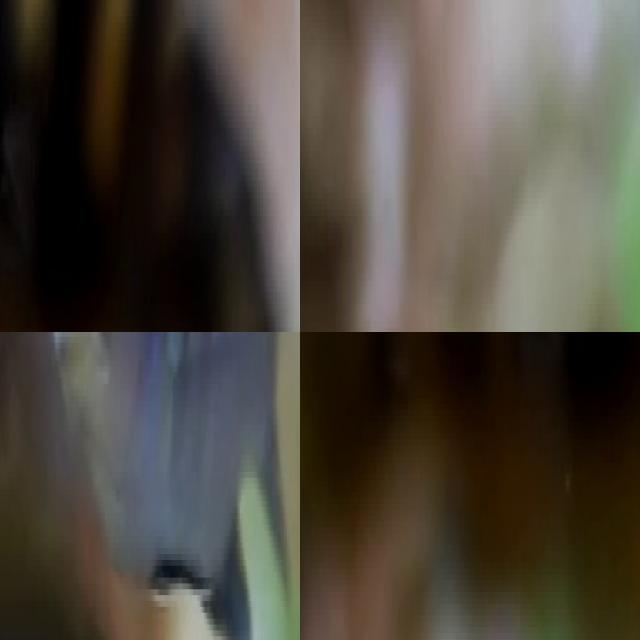fish: (0, 0, 300, 332), (38, 332, 300, 640)
